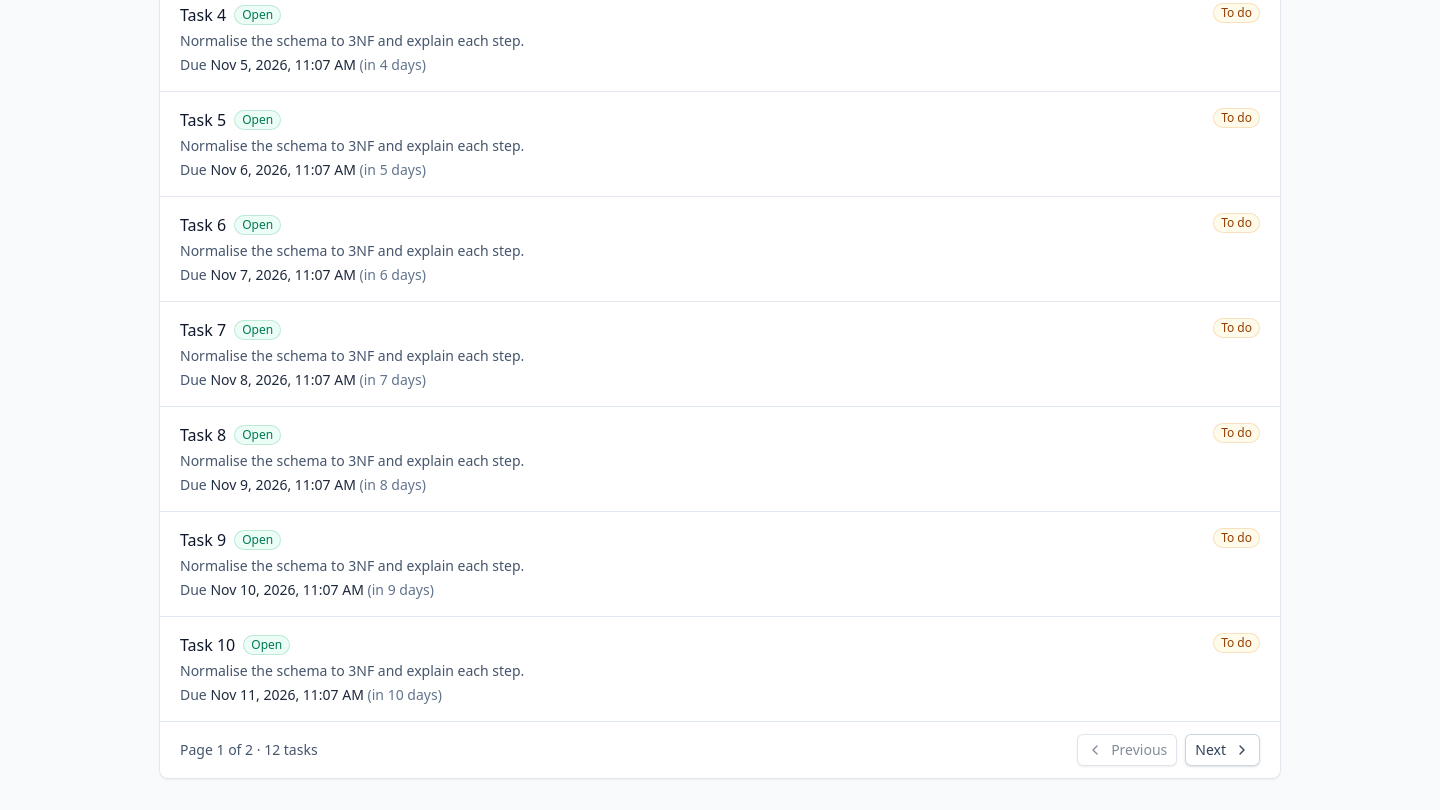
Test case: task list › pages through long lists
This screenshot has width=1440, height=810.
(page scrolled)
Expected: the navigation bar named "Pagination" shows "Page 1 of 2", 160,721 -> 1280,778
Click the button "Next" at (1223, 750), box 1185,734 -> 1260,766
(page scrolled)
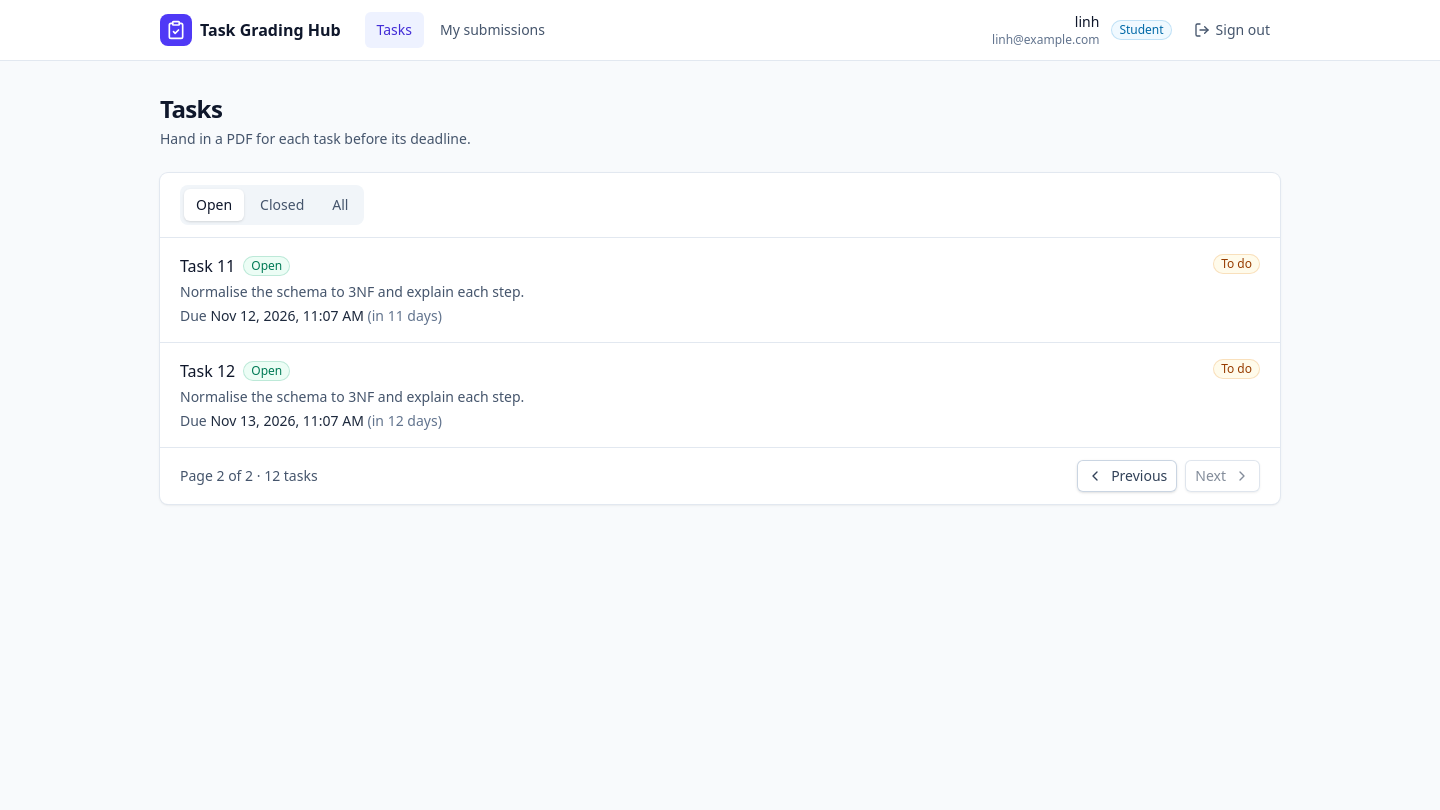
Expected: the link "Task 12" is shown, 180,359 -> 235,383
Expected: the number of list items is 2, 160,238 -> 1280,343; 160,343 -> 1280,447
